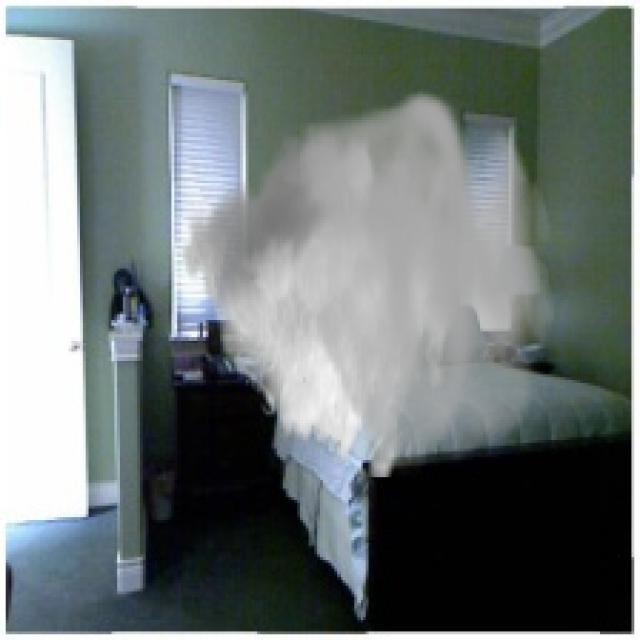Smoke: (180, 86, 554, 477)
